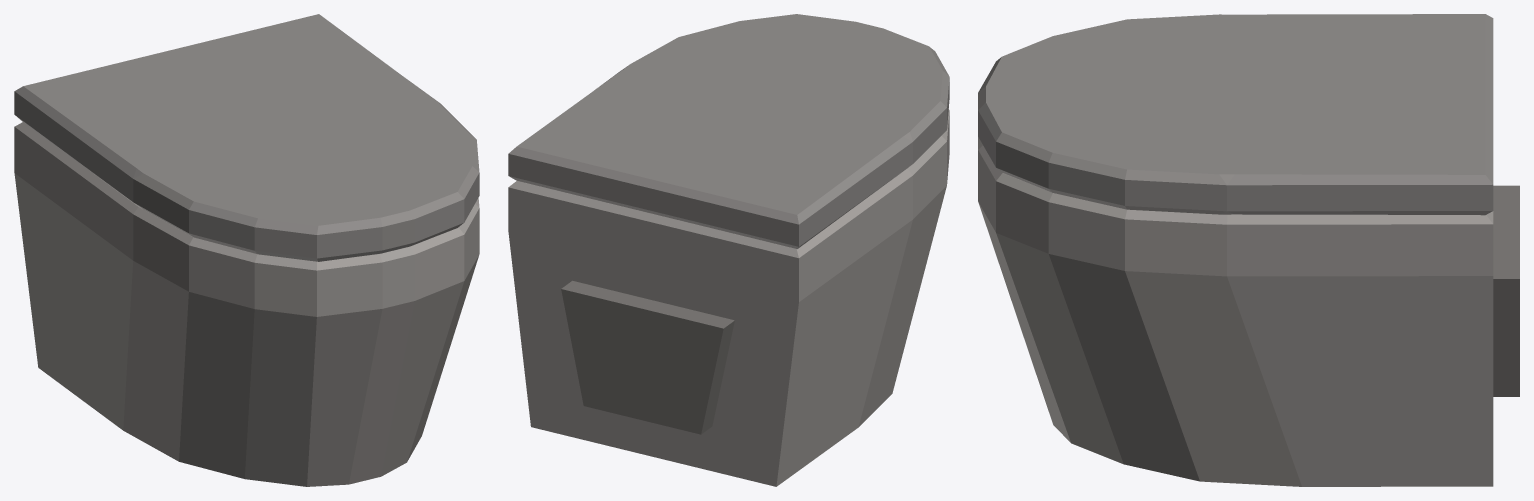
Rendered from SM_Props_Interior_House_Bathroom_Toilet_02.fbx.
3 views of the same model, side by side, from view 1: azimuth 30°, elevation 25°; view 2: azimuth 150°, elevation 25°; view 3: azimuth 270°, elevation 25° (orthographic). The views are drawn at different scales.
Visible parts, largest first — view 1: SM_Props_Interior_House_Bathroom_Toilet_02; view 2: SM_Props_Interior_House_Bathroom_Toilet_02; view 3: SM_Props_Interior_House_Bathroom_Toilet_02.
Boxes of the visible parts, left/top/right/bottom form: SM_Props_Interior_House_Bathroom_Toilet_02: left=14, top=14, right=479, bottom=486; SM_Props_Interior_House_Bathroom_Toilet_02: left=508, top=14, right=949, bottom=486; SM_Props_Interior_House_Bathroom_Toilet_02: left=978, top=14, right=1519, bottom=486.
Size of the model in its own units: 36.95 by 33.12 by 50.53.
